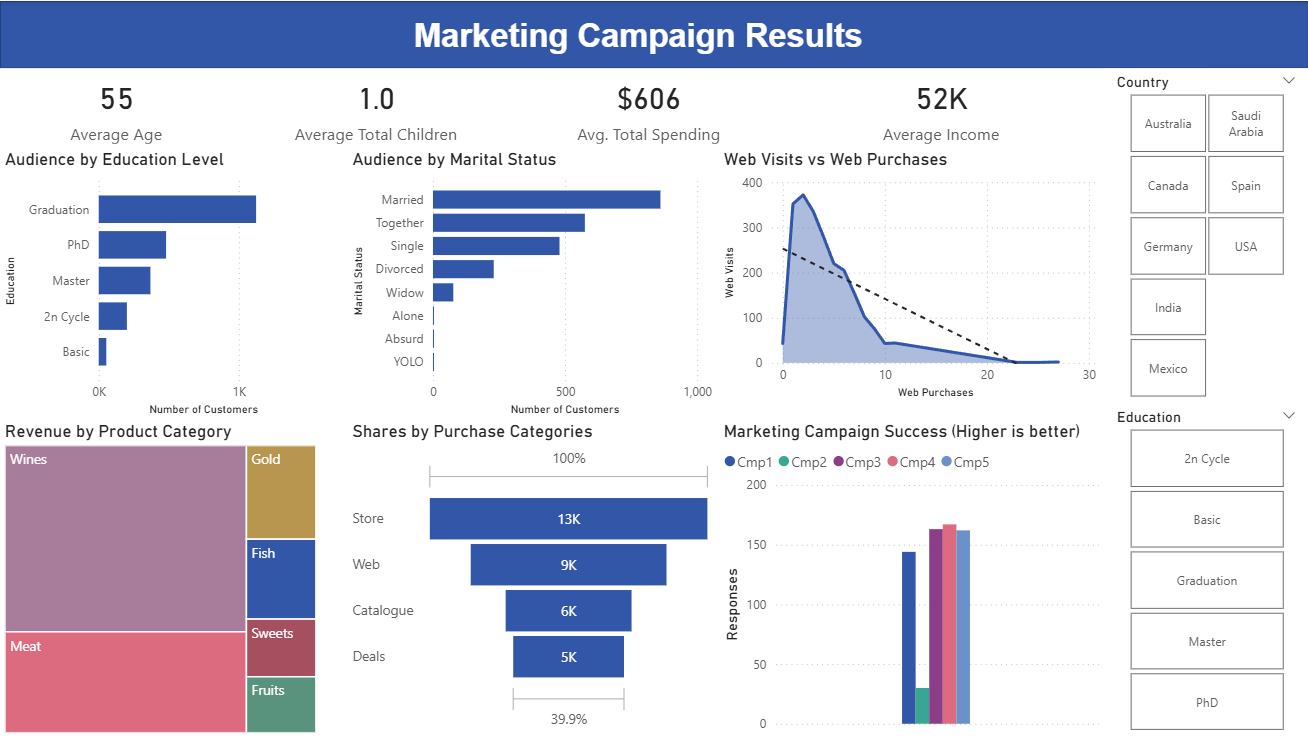

Layout of this report page (visuals, bound fields, positions):
{"tool":"powerbi","page":{"name":"Page 1","canvas":[1280,720],"ordinal":0},"visuals":[{"type":"card","fields":{"Values":["Avg(Table1.Age)"]},"box":[0,65.9,227.8,78.2],"z":0},{"type":"card","fields":{"Values":["Avg(Table1.Total_Spending)"]},"box":[510.5,65.9,249.7,78.2],"z":1000},{"type":"card","fields":{"Values":["Avg(Table1.Income)"]},"box":[761.6,65.9,318.4,78.2],"z":2000},{"type":"card","fields":{"Values":["Avg(Table1.Total_Children)"]},"box":[227.8,65.9,281.3,78.2],"z":3000},{"type":"clusteredBarChart","title":"Audience by Education Level","fields":{"Category":["Table1.Education"],"Y":["CountNonNull(Table1.ID)"]},"box":[0,144.1,314.2,266.2],"z":4000},{"type":"clusteredBarChart","title":"Audience by Marital Status","fields":{"Y":["CountNonNull(Table1.ID)"],"Category":["Table1.Marital_Status"]},"box":[340.3,144.1,362.3,266.2],"z":5000},{"type":"treemap","title":"Revenue by Product Category","fields":{"Values":["Sum(Table1.MntFishProducts)","Sum(Table1.MntFruits)","Sum(Table1.MntGoldProds)","Sum(Table1.MntMeatProducts)","Sum(Table1.MntSweetProducts)","Sum(Table1.MntWines)"]},"box":[0,410.3,314.2,310.1],"z":6000},{"type":"funnel","title":"Shares by Purchase Categories","fields":{"Y":["Sum(Table1.NumStorePurchases)","Sum(Table1.NumWebPurchases)","Sum(Table1.NumCatalogPurchases)","Sum(Table1.NumDealsPurchases)"]},"box":[340.3,410.3,362.3,307.4],"z":7000},{"type":"areaChart","title":"Web Visits vs Web Purchases","fields":{"Y":["CountNonNull(Table1.NumWebVisitsMonth (bins))"],"Category":["Table1.NumWebPurchases"]},"box":[702.6,144.1,377.4,249.7],"z":8000},{"type":"shape","box":[0,0,1280.3,65.9],"z":9000},{"type":"slicer","fields":{"Values":["Table1.Country"]},"box":[1079.9,65.9,200.3,328],"z":10000},{"type":"slicer","fields":{"Values":["Table1.Education"]},"box":[1079.9,393.8,200.3,326.6],"z":11000},{"type":"clusteredColumnChart","title":"Marketing Campaign Success (Higher is better)","fields":{"Y":["Sum(Table1.AcceptedCmp1)","Sum(Table1.AcceptedCmp2)","Sum(Table1.AcceptedCmp3)","Sum(Table1.AcceptedCmp4)","Sum(Table1.AcceptedCmp5)"]},"box":[702.6,410.3,377.4,310.1],"z":12000},{"type":"textbox","box":[376,11,498.1,54.9],"z":13000}]}

Visuals, with their boxes in screenshot pixels (x1, y1, x2, y2), scaled from the page's 1280x720 canvas onto the 1308x737 screenshot:
card - Avg(Table1.Age): left=0, top=67, right=233, bottom=148
card - Avg(Table1.Total_Spending): left=522, top=67, right=777, bottom=148
card - Avg(Table1.Income): left=778, top=67, right=1104, bottom=148
card - Avg(Table1.Total_Children): left=233, top=67, right=520, bottom=148
"Audience by Education Level" clusteredBarChart: left=0, top=148, right=321, bottom=420
"Audience by Marital Status" clusteredBarChart: left=348, top=148, right=718, bottom=420
"Revenue by Product Category" treemap: left=0, top=420, right=321, bottom=736
"Shares by Purchase Categories" funnel: left=348, top=420, right=718, bottom=735
"Web Visits vs Web Purchases" areaChart: left=718, top=148, right=1104, bottom=403
shape: left=0, top=0, right=1307, bottom=67
slicer - Table1.Country: left=1104, top=67, right=1307, bottom=403
slicer - Table1.Education: left=1104, top=403, right=1307, bottom=736
"Marketing Campaign Success (Higher is better)" clusteredColumnChart: left=718, top=420, right=1104, bottom=736
textbox: left=384, top=11, right=893, bottom=67
